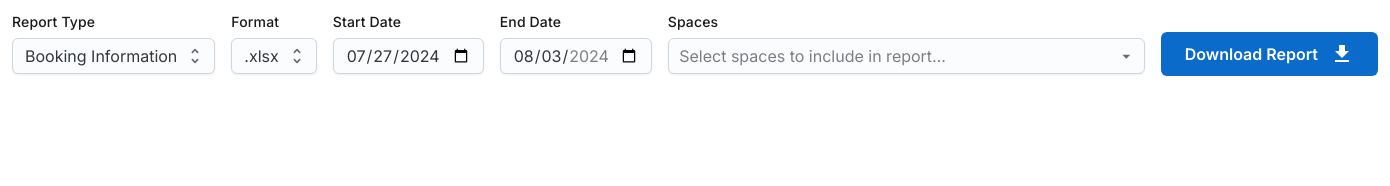
Scenario: ReportGenerationForm › shows correct report types
Click the dropdown named "Report Type".
click(101, 56)  # box [25, 42, 177, 70]
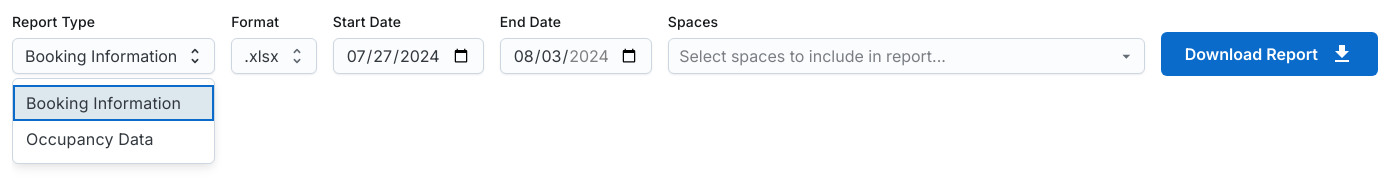
Expected: the option "Booking Information" is shown, [13, 85, 214, 121]
Expected: the option "Occupancy Data" is shown, [26, 129, 154, 149]
